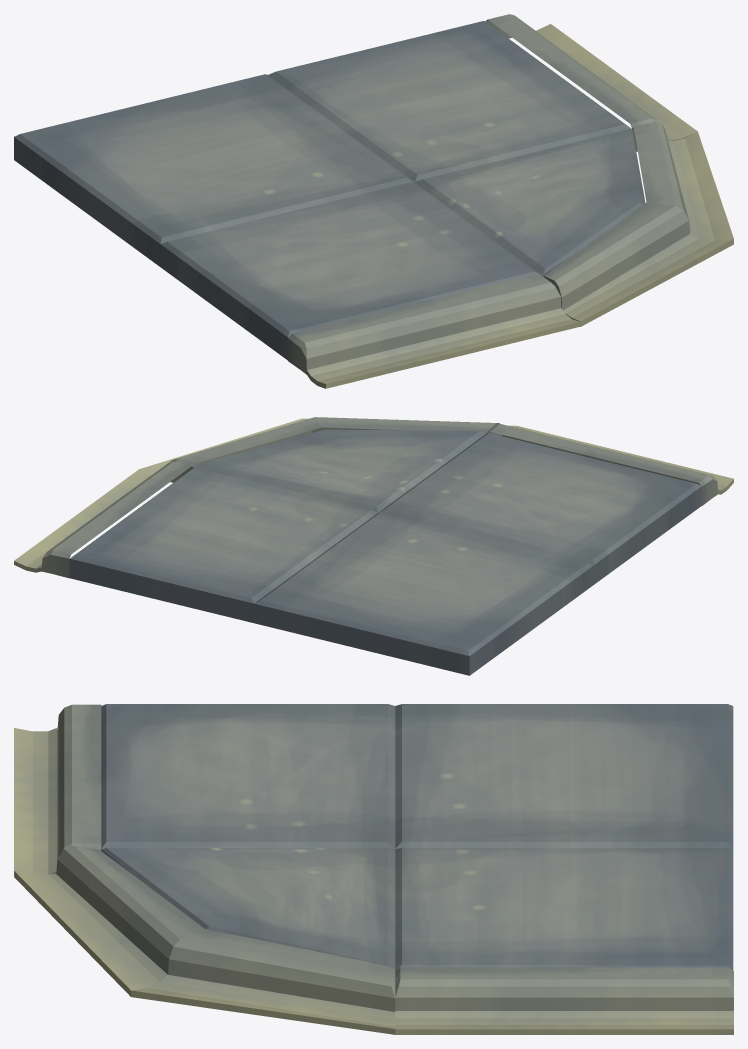
The model's file is Sidewalk_CurbCorner.gltf.
3 renders of one model, top to bottom at view 1: azimuth 30°, elevation 25°; view 2: azimuth 150°, elevation 25°; view 3: azimuth 270°, elevation 25°, orthographic. The views are drawn at different scales.
Parts seen in each view (by area): view 1: SideWalk_CurbCorner; view 2: SideWalk_CurbCorner; view 3: SideWalk_CurbCorner.
Part boxes in pixels (left/top/right/bottom): SideWalk_CurbCorner: left=14, top=14, right=733, bottom=388; SideWalk_CurbCorner: left=14, top=417, right=733, bottom=675; SideWalk_CurbCorner: left=14, top=704, right=733, bottom=1034.
Bounding box in the file's own units: 2.81 × 0.1621 × 2.82.
1 material, 1 textured.
